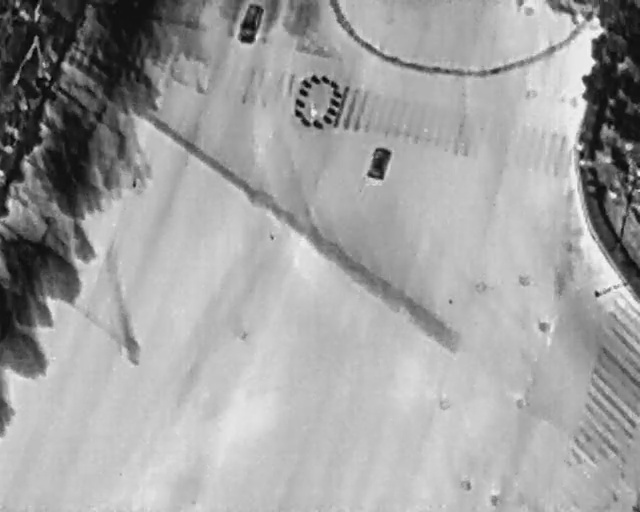Car: (234, 2, 266, 47), (365, 145, 393, 183)
